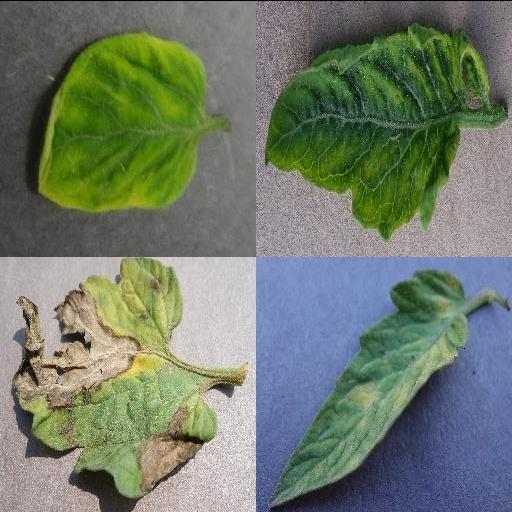Late Blight: (12, 256, 219, 499)
Leaf Mold: (266, 268, 470, 508)
Yellow Leaf Curl Virus: (264, 22, 490, 240), (37, 29, 205, 209)
